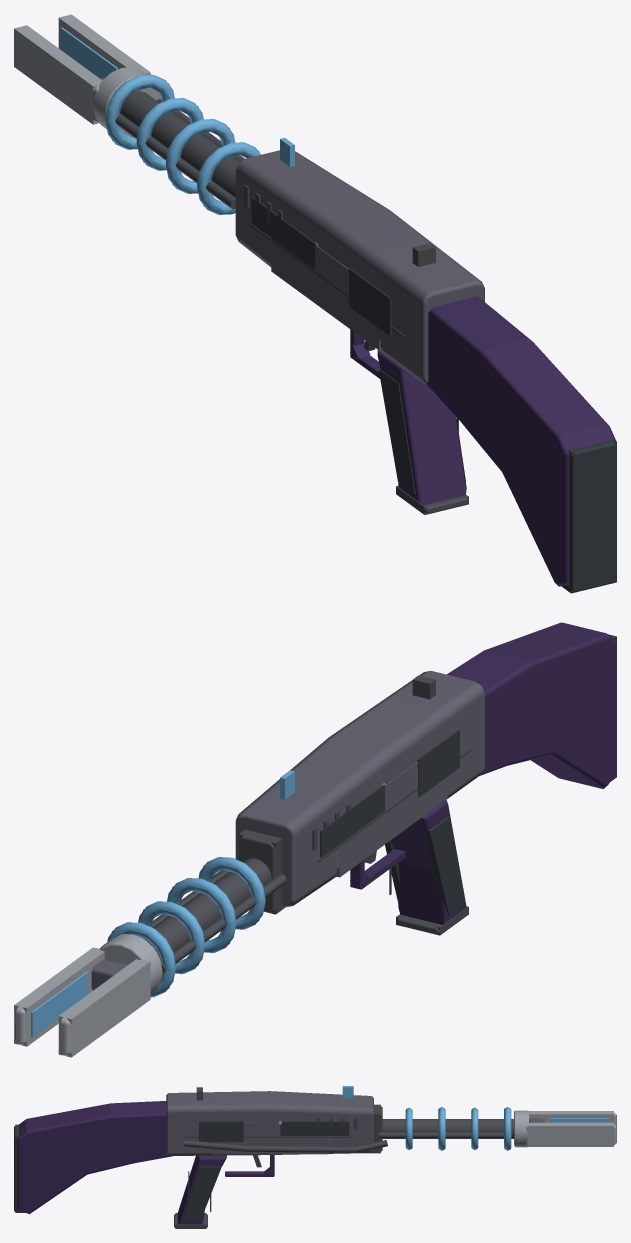
The model's file is arc.glb.
3 views of the same model, one above another, from view 1: azimuth 30°, elevation 25°; view 2: azimuth 150°, elevation 25°; view 3: azimuth 270°, elevation 25° (orthographic). The views are drawn at different scales.
Parts seen in each view (by area): view 1: L0, L1; view 2: L0, L1; view 3: L0, L1.
Boxes of the visible parts, x1,y1,x2,y2 form: L0: (14,15,616,592); L1: (14,14,616,593); L0: (14,622,616,1056); L1: (14,634,616,1057); L0: (14,1086,616,1227); L1: (15,1104,613,1228).
Bounding box in the file's own units: 0.0649 × 0.1926 × 0.7718.
